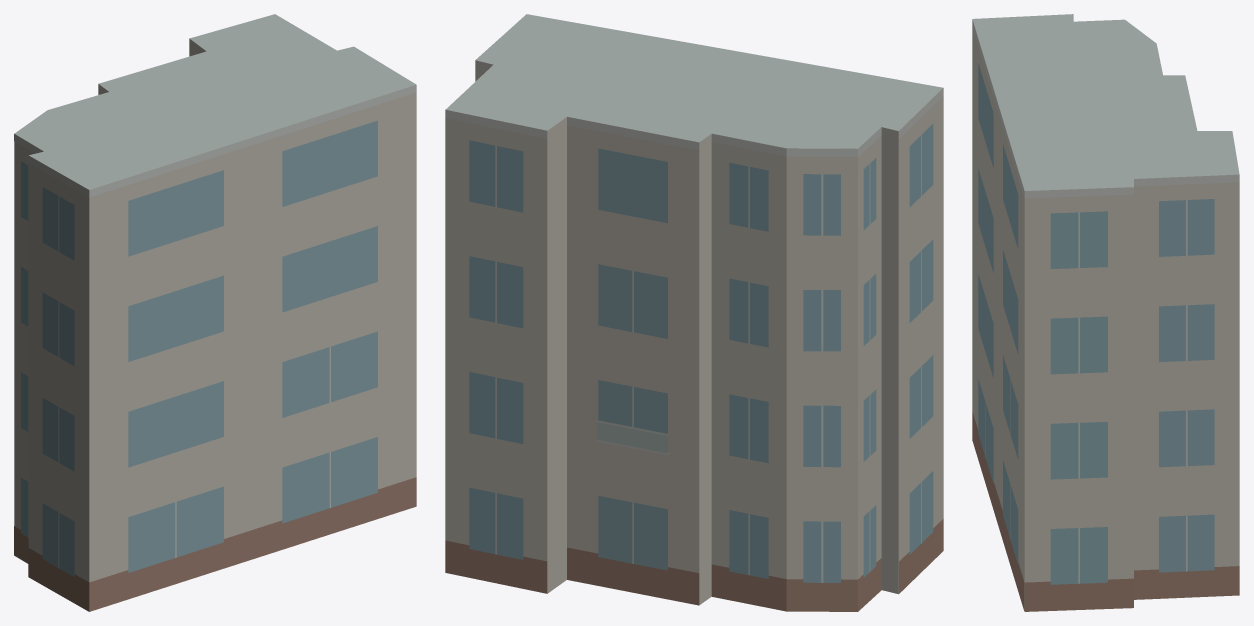
File: survey-upis-32462487.glb
3 views of the same model, side by side, from view 1: azimuth 30°, elevation 25°; view 2: azimuth 150°, elevation 25°; view 3: azimuth 270°, elevation 25° (orthographic). The views are drawn at different scales.
Visible parts, largest first — view 1: survey-upis-32462487.tmp; view 2: survey-upis-32462487.tmp; view 3: survey-upis-32462487.tmp.
Part boxes in pixels (left/top/right/bottom): survey-upis-32462487.tmp: left=14, top=14, right=416, bottom=611; survey-upis-32462487.tmp: left=445, top=14, right=943, bottom=611; survey-upis-32462487.tmp: left=972, top=14, right=1239, bottom=611.
Bounding box in the file's own units: 12.37 × 13.7 × 7.9.
